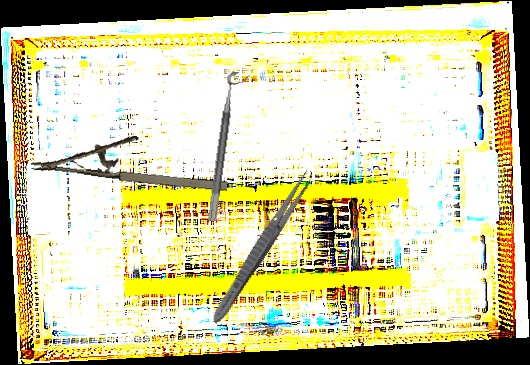Dressing Forceps: (207, 166, 317, 328)
Fixation Ring: (207, 70, 250, 224)
Needle Holder: (30, 122, 233, 197)
